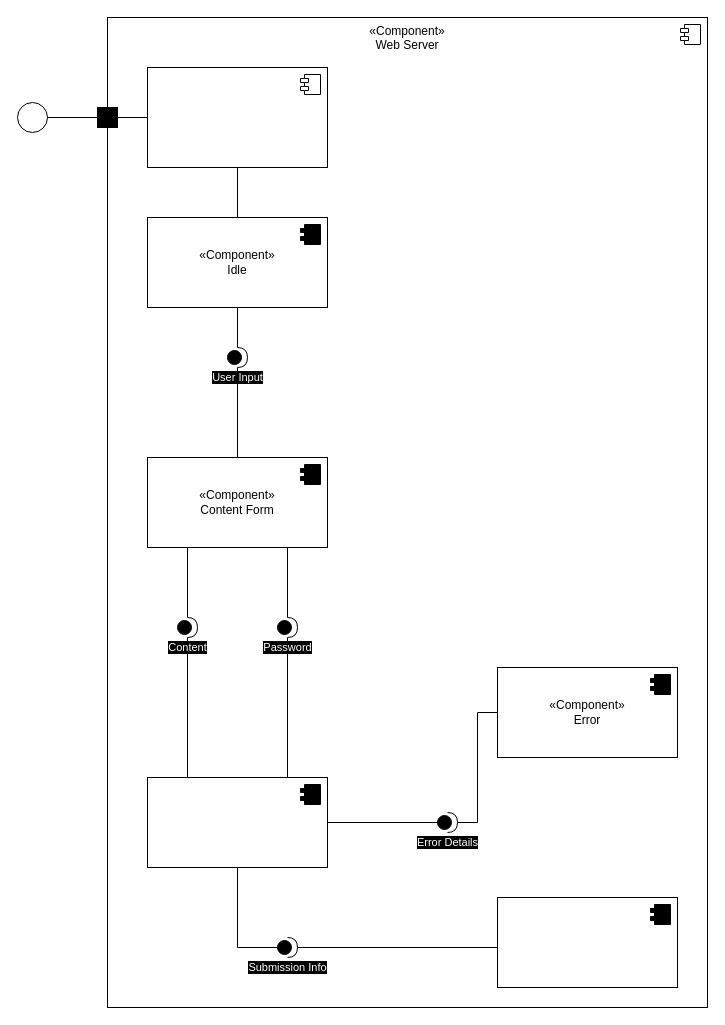
This 725x1025 diagram has some shape labels left out. The shapes that lost their labels are listed below. From the top down, each one's centre as x and y in pixels, then its label:
At (32,117): "User".
At (237,117): "«Component» Web UI".
At (237,822): "«Component» Submit Form".
At (587,942): "«Component» Database".
